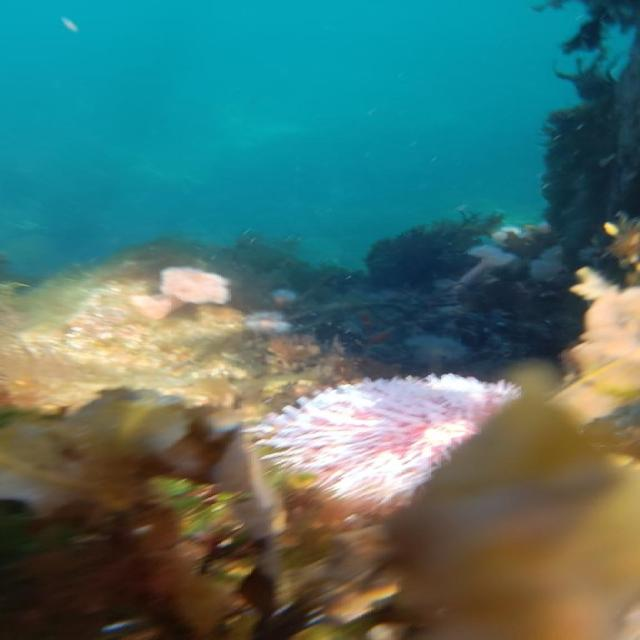Deniz Kestanesi: (245, 370, 526, 505)
